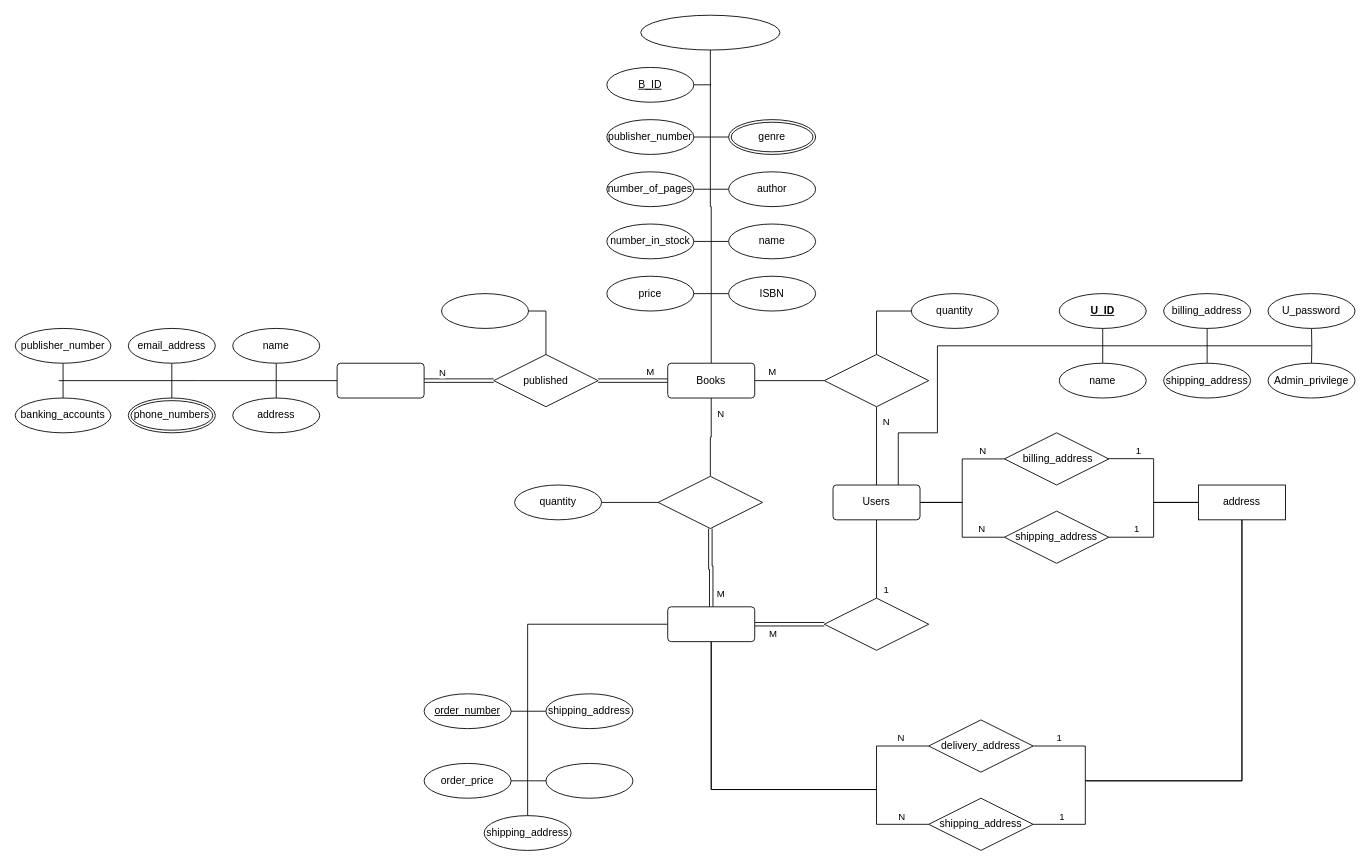
Image size: 1370x866. Some labels were removed from this diagram. The shapes that lost their labels are listed below. From the top down, each one's centre as x and y in pixels, then its label:
At (710,32): "publisher_sale_percentage".
At (485,310): "date".
At (380,380): "publisher".
At (876,380): "add_to_cart".
At (710,502): "books in order".
At (711,624): "order".
At (876,623): "made order".
At (589,780): "tracking_number".
